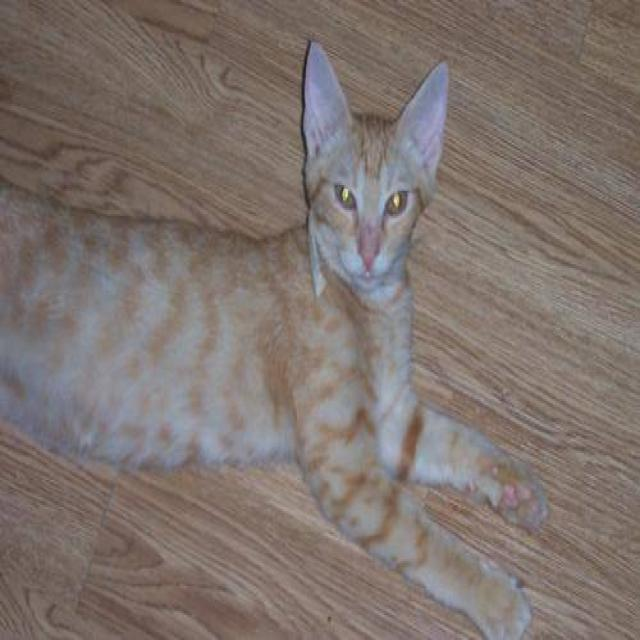cat: (0, 37, 549, 638)
